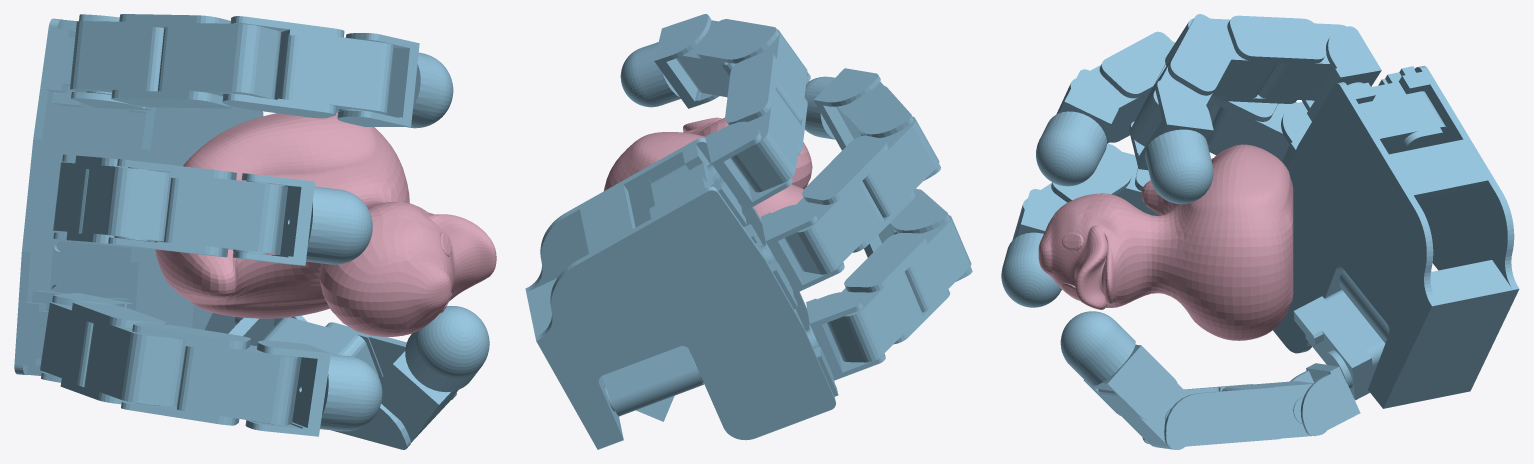
3 renders of one model, left to right at view 1: azimuth 30°, elevation 25°; view 2: azimuth 150°, elevation 25°; view 3: azimuth 270°, elevation 25°, orthographic. The views are drawn at different scales.
Parts seen in each view (by area): view 1: world, rubber_duck.stl; view 2: world, rubber_duck.stl; view 3: world, rubber_duck.stl.
Boxes of the visible parts, x1,y1,x2,y2 form: world: (14,14,489,449); rubber_duck.stl: (154,112,496,336); world: (525,14,972,449); rubber_duck.stl: (604,117,812,219); world: (1001,14,1519,449); rubber_duck.stl: (1038,144,1293,340).
Bounding box in the file's own units: 0.1385 × 0.1599 × 0.1949.
